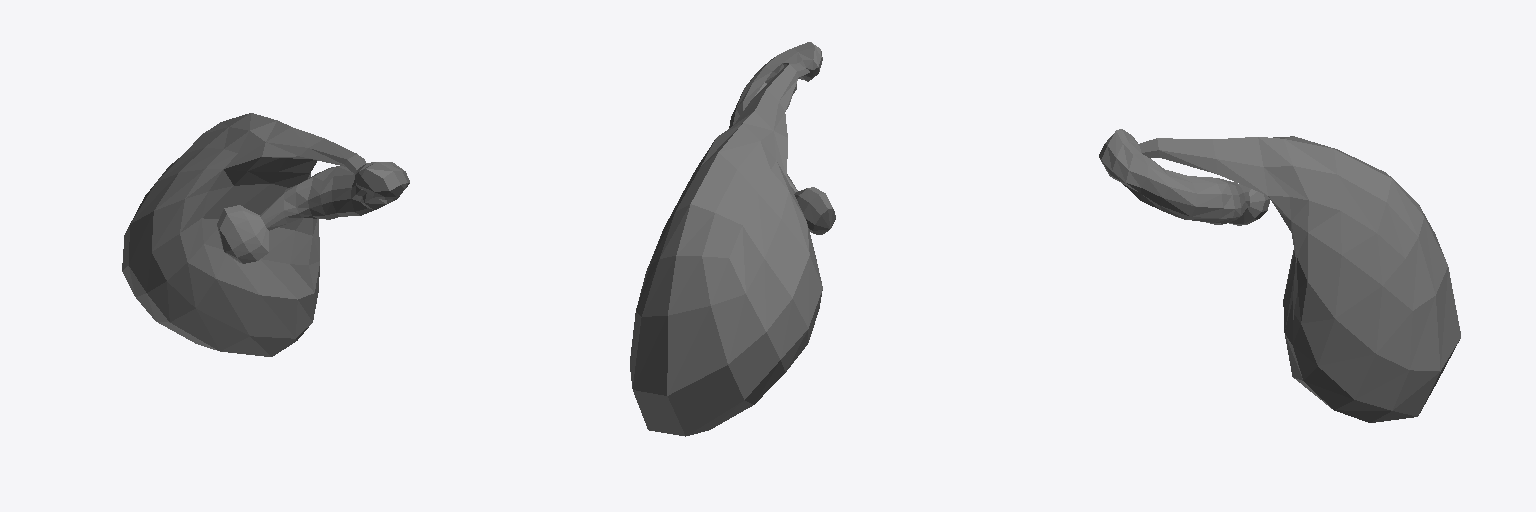
Rendered from thief_leftarm.obj.
The picture shows the model from 3 angles: view 1: azimuth 30°, elevation 25°; view 2: azimuth 150°, elevation 25°; view 3: azimuth 270°, elevation 25°; orthographic projection.
Parts seen in each view (by area): view 1: thief_leftarm; view 2: thief_leftarm; view 3: thief_leftarm.
Boxes of the visible parts, x1=… form: thief_leftarm: x1=122, y1=113, x2=409, y2=356; thief_leftarm: x1=630, y1=42, x2=835, y2=436; thief_leftarm: x1=1099, y1=129, x2=1460, y2=422.
Size of the model in its own units: 11.35 by 18.74 by 21.28.